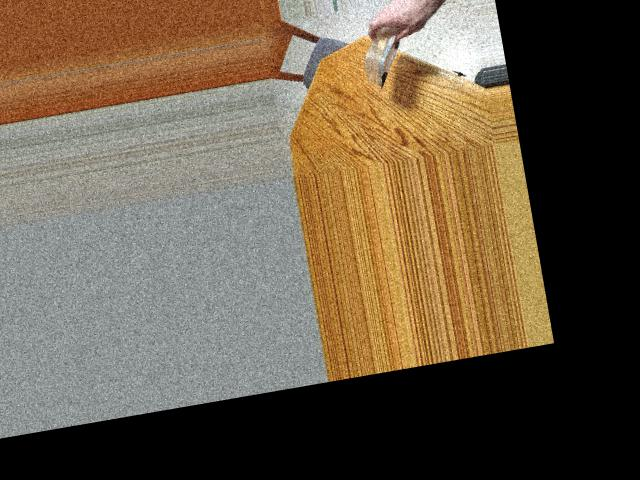cheese: (357, 21, 406, 88)
